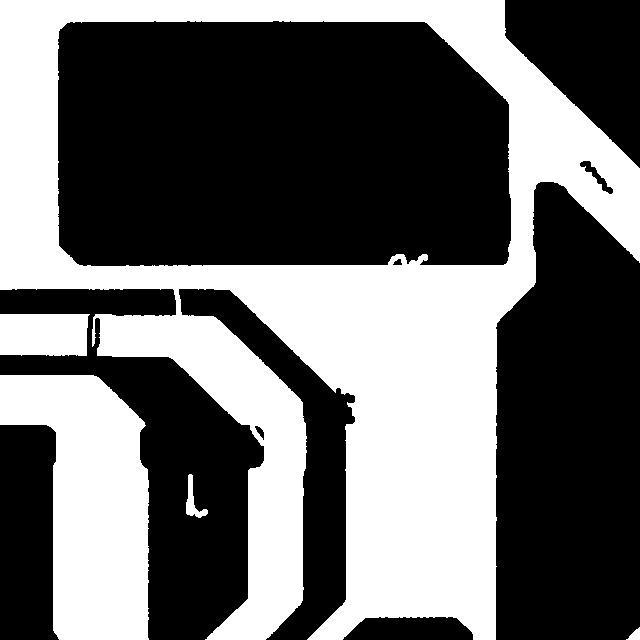copper: (570, 151, 622, 203)
mousebite: (378, 244, 437, 279)
open: (240, 410, 279, 457), (164, 277, 191, 327)
pin-hole: (176, 464, 217, 527)
short: (77, 299, 109, 371)
spur: (326, 378, 364, 434)
